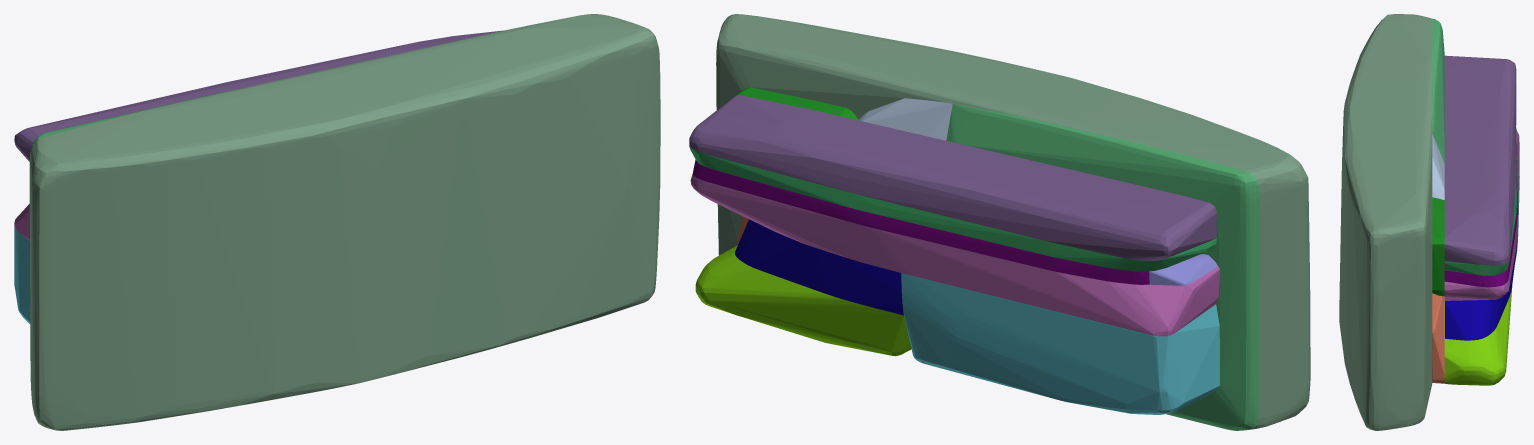
File: coacd_collision.obj
The picture shows the model from 3 angles, left to right: view 1: azimuth 30°, elevation 25°; view 2: azimuth 150°, elevation 25°; view 3: azimuth 270°, elevation 25°; orthographic projection. The views are drawn at different scales.
Visible parts, largest first — view 1: geometry_0, geometry_1, geometry_2; view 2: geometry_0, geometry_1, geometry_2, geometry_3, geometry_7, geometry_4, geometry_10, geometry_5, geometry_11, geometry_6, geometry_12, geometry_8; view 3: geometry_0, geometry_1, geometry_4, geometry_5, geometry_3, geometry_7, geometry_8, geometry_9, geometry_11, geometry_10, geometry_6.
Part boxes in pixels (box(x1,y1,x2,y2)): geometry_0: box(29, 14, 660, 430); geometry_1: box(14, 30, 502, 161); geometry_2: box(14, 227, 30, 324); geometry_0: box(716, 14, 1310, 429); geometry_1: box(689, 95, 1216, 260); geometry_2: box(901, 273, 1219, 414); geometry_3: box(946, 104, 1259, 430); geometry_7: box(690, 173, 1219, 336); geometry_4: box(695, 245, 911, 356); geometry_10: box(689, 147, 1216, 271); geometry_5: box(735, 219, 903, 315); geometry_11: box(693, 160, 1149, 284); geometry_6: box(858, 98, 952, 140); geometry_12: box(1149, 254, 1218, 285); geometry_8: box(734, 87, 858, 120); geometry_0: box(1339, 14, 1432, 430); geometry_1: box(1444, 55, 1516, 265); geometry_4: box(1444, 286, 1512, 385); geometry_5: box(1445, 235, 1517, 340); geometry_3: box(1432, 18, 1444, 162); geometry_7: box(1444, 129, 1519, 300); geometry_8: box(1432, 197, 1444, 296); geometry_9: box(1432, 293, 1444, 383); geometry_11: box(1444, 144, 1517, 287); geometry_10: box(1445, 127, 1516, 275); geometry_6: box(1432, 134, 1444, 199).
Bounding box in the file's own units: 118 × 50.43 × 39.92.
